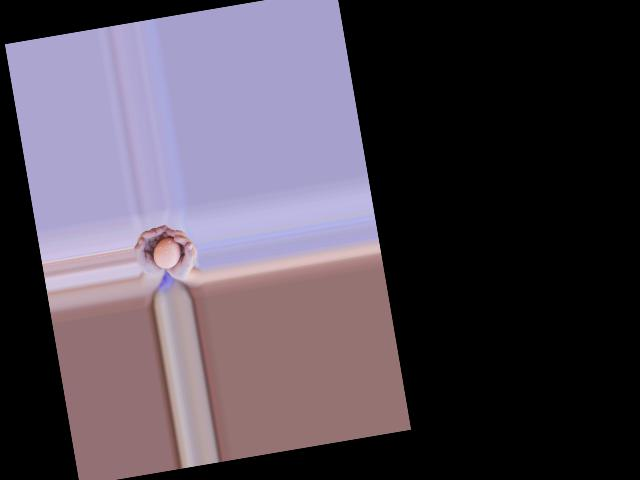egg: (150, 236, 183, 271)
